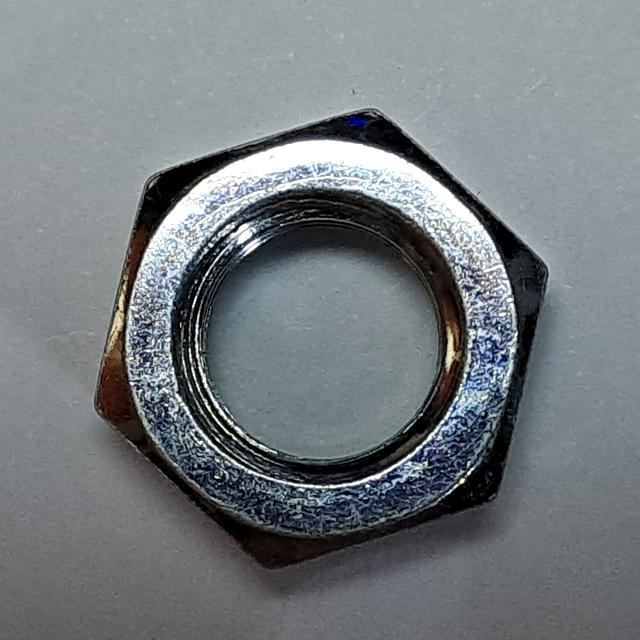Excellent: (70, 89, 573, 589)
